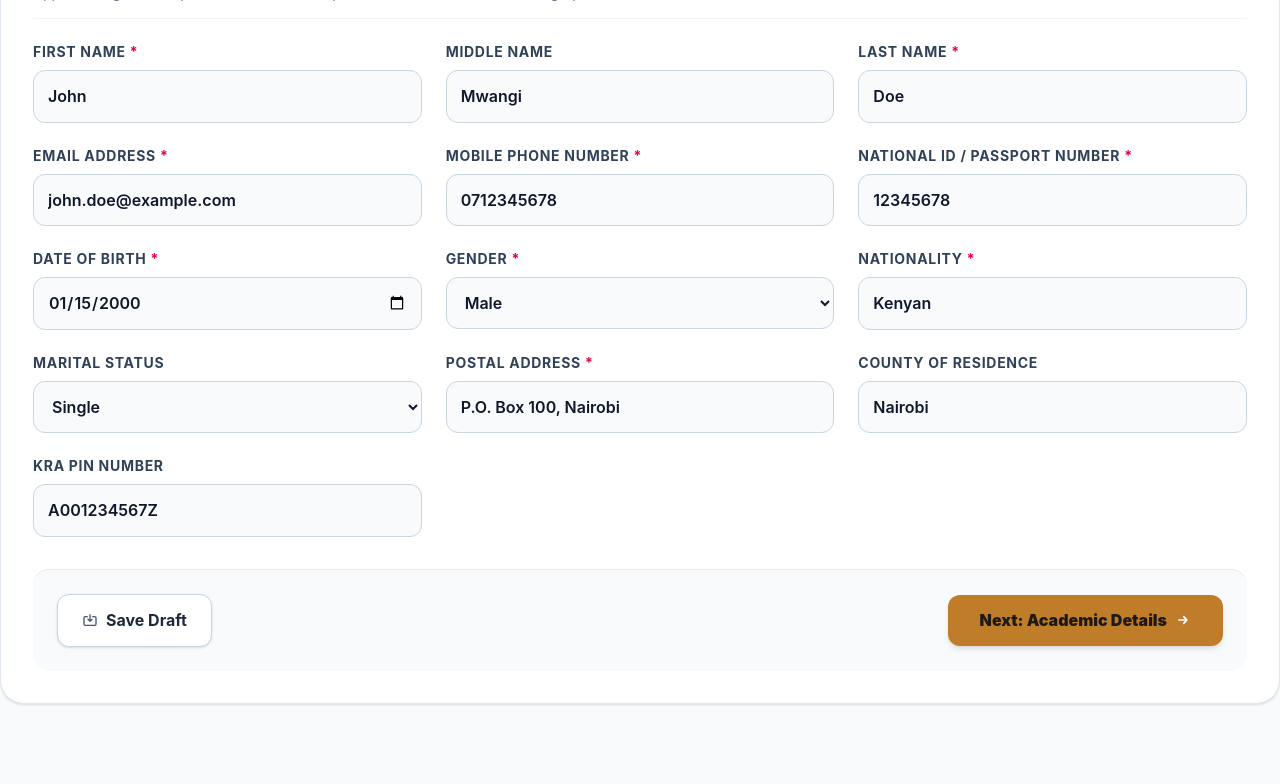
it: Profile 4-Step Biodata Wizard Component › allows navigating between steps when fields are valid
This screenshot has width=1280, height=784.
(page scrolled)
Expected: the field showing "John" below "First Name" is shown, 33,70 -> 422,123
Note: Click next button to go from Step 1 to Step 2
What coordinates should you click on to do the following:
click the button "Next: Academic Details"
I would click on:
 (1085, 620)
Its box is 948,595 -> 1223,646.
(page scrolled)
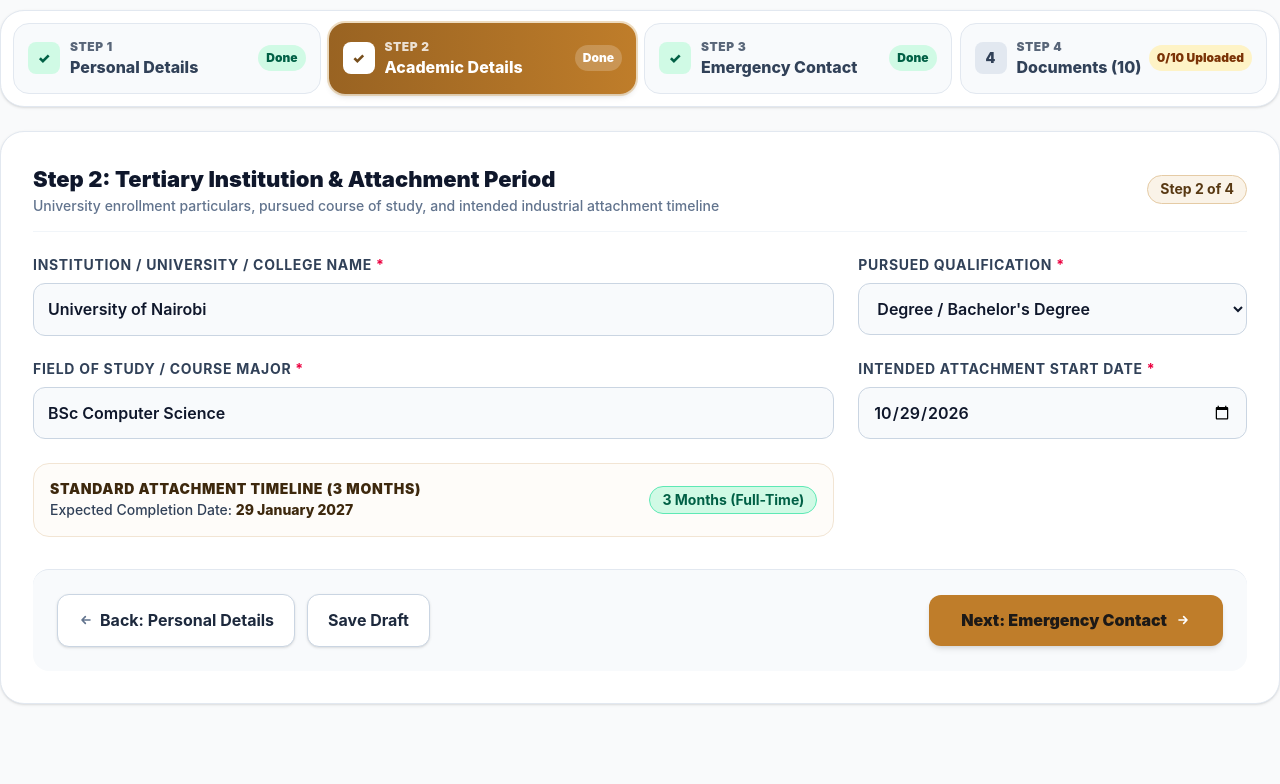
Expected: the field showing "University of Nairobi" below "Institution / University / College Name" is shown, 33,283 -> 834,336
Note: Navigate to Step 3
What coordinates should you click on to do the following:
click the button "Next: Emergency Contact"
I would click on:
 (1076, 620)
Its box is 929,595 -> 1223,646.
(page scrolled)
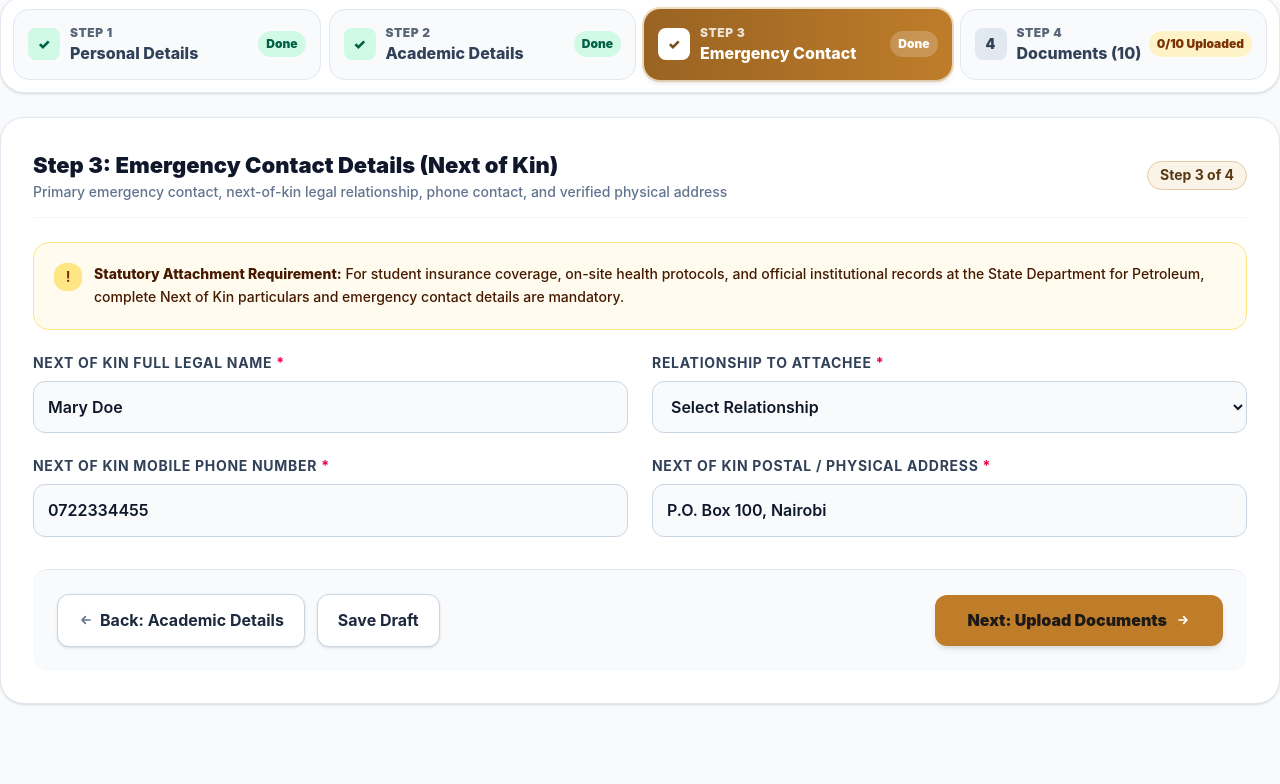
Expected: the field showing "Mary Doe" below "Next of Kin Full Legal Name" is shown, 33,380 -> 628,433
Note: Navigate back to Step 2 using Back button
What coordinates should you click on to do the following:
click the button "Back: Academic Details"
I would click on:
 (181, 620)
Its box is 57,594 -> 305,647.
(page scrolled)
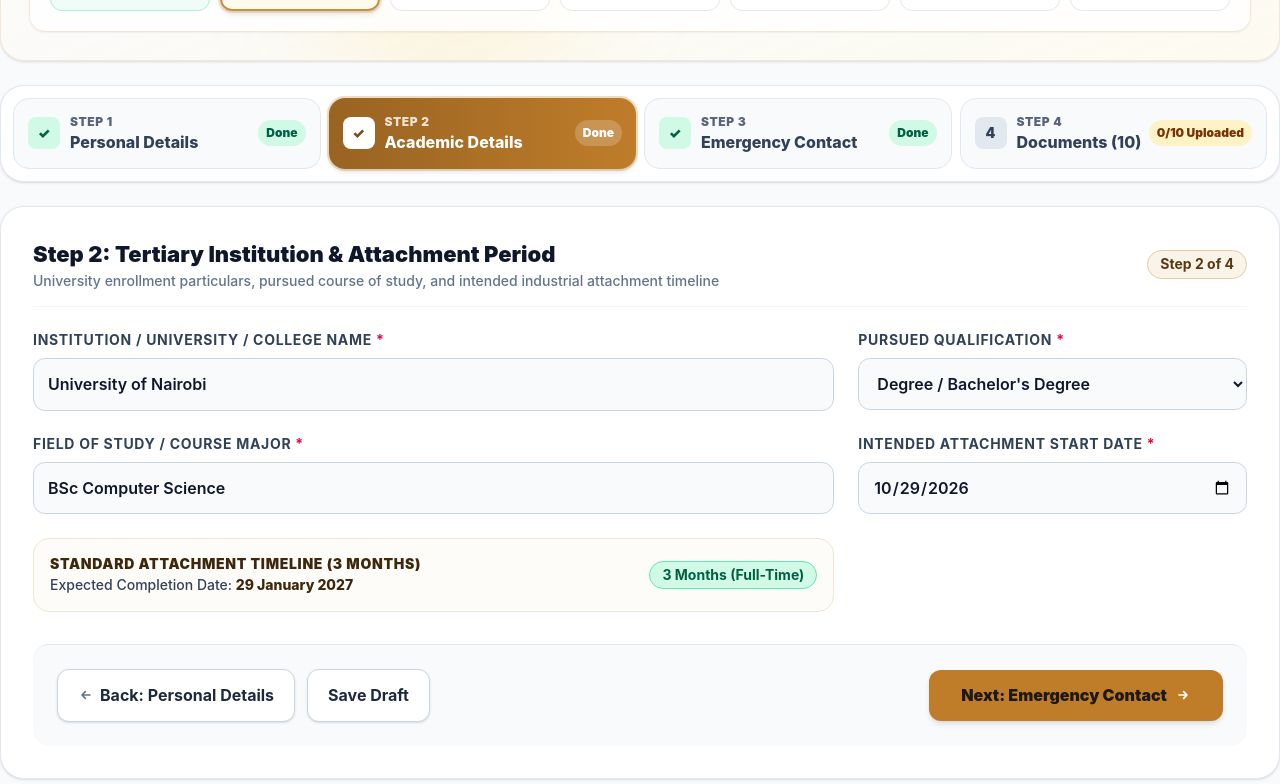
Expected: the field showing "University of Nairobi" below "Institution / University / College Name" is shown, 33,358 -> 834,411
